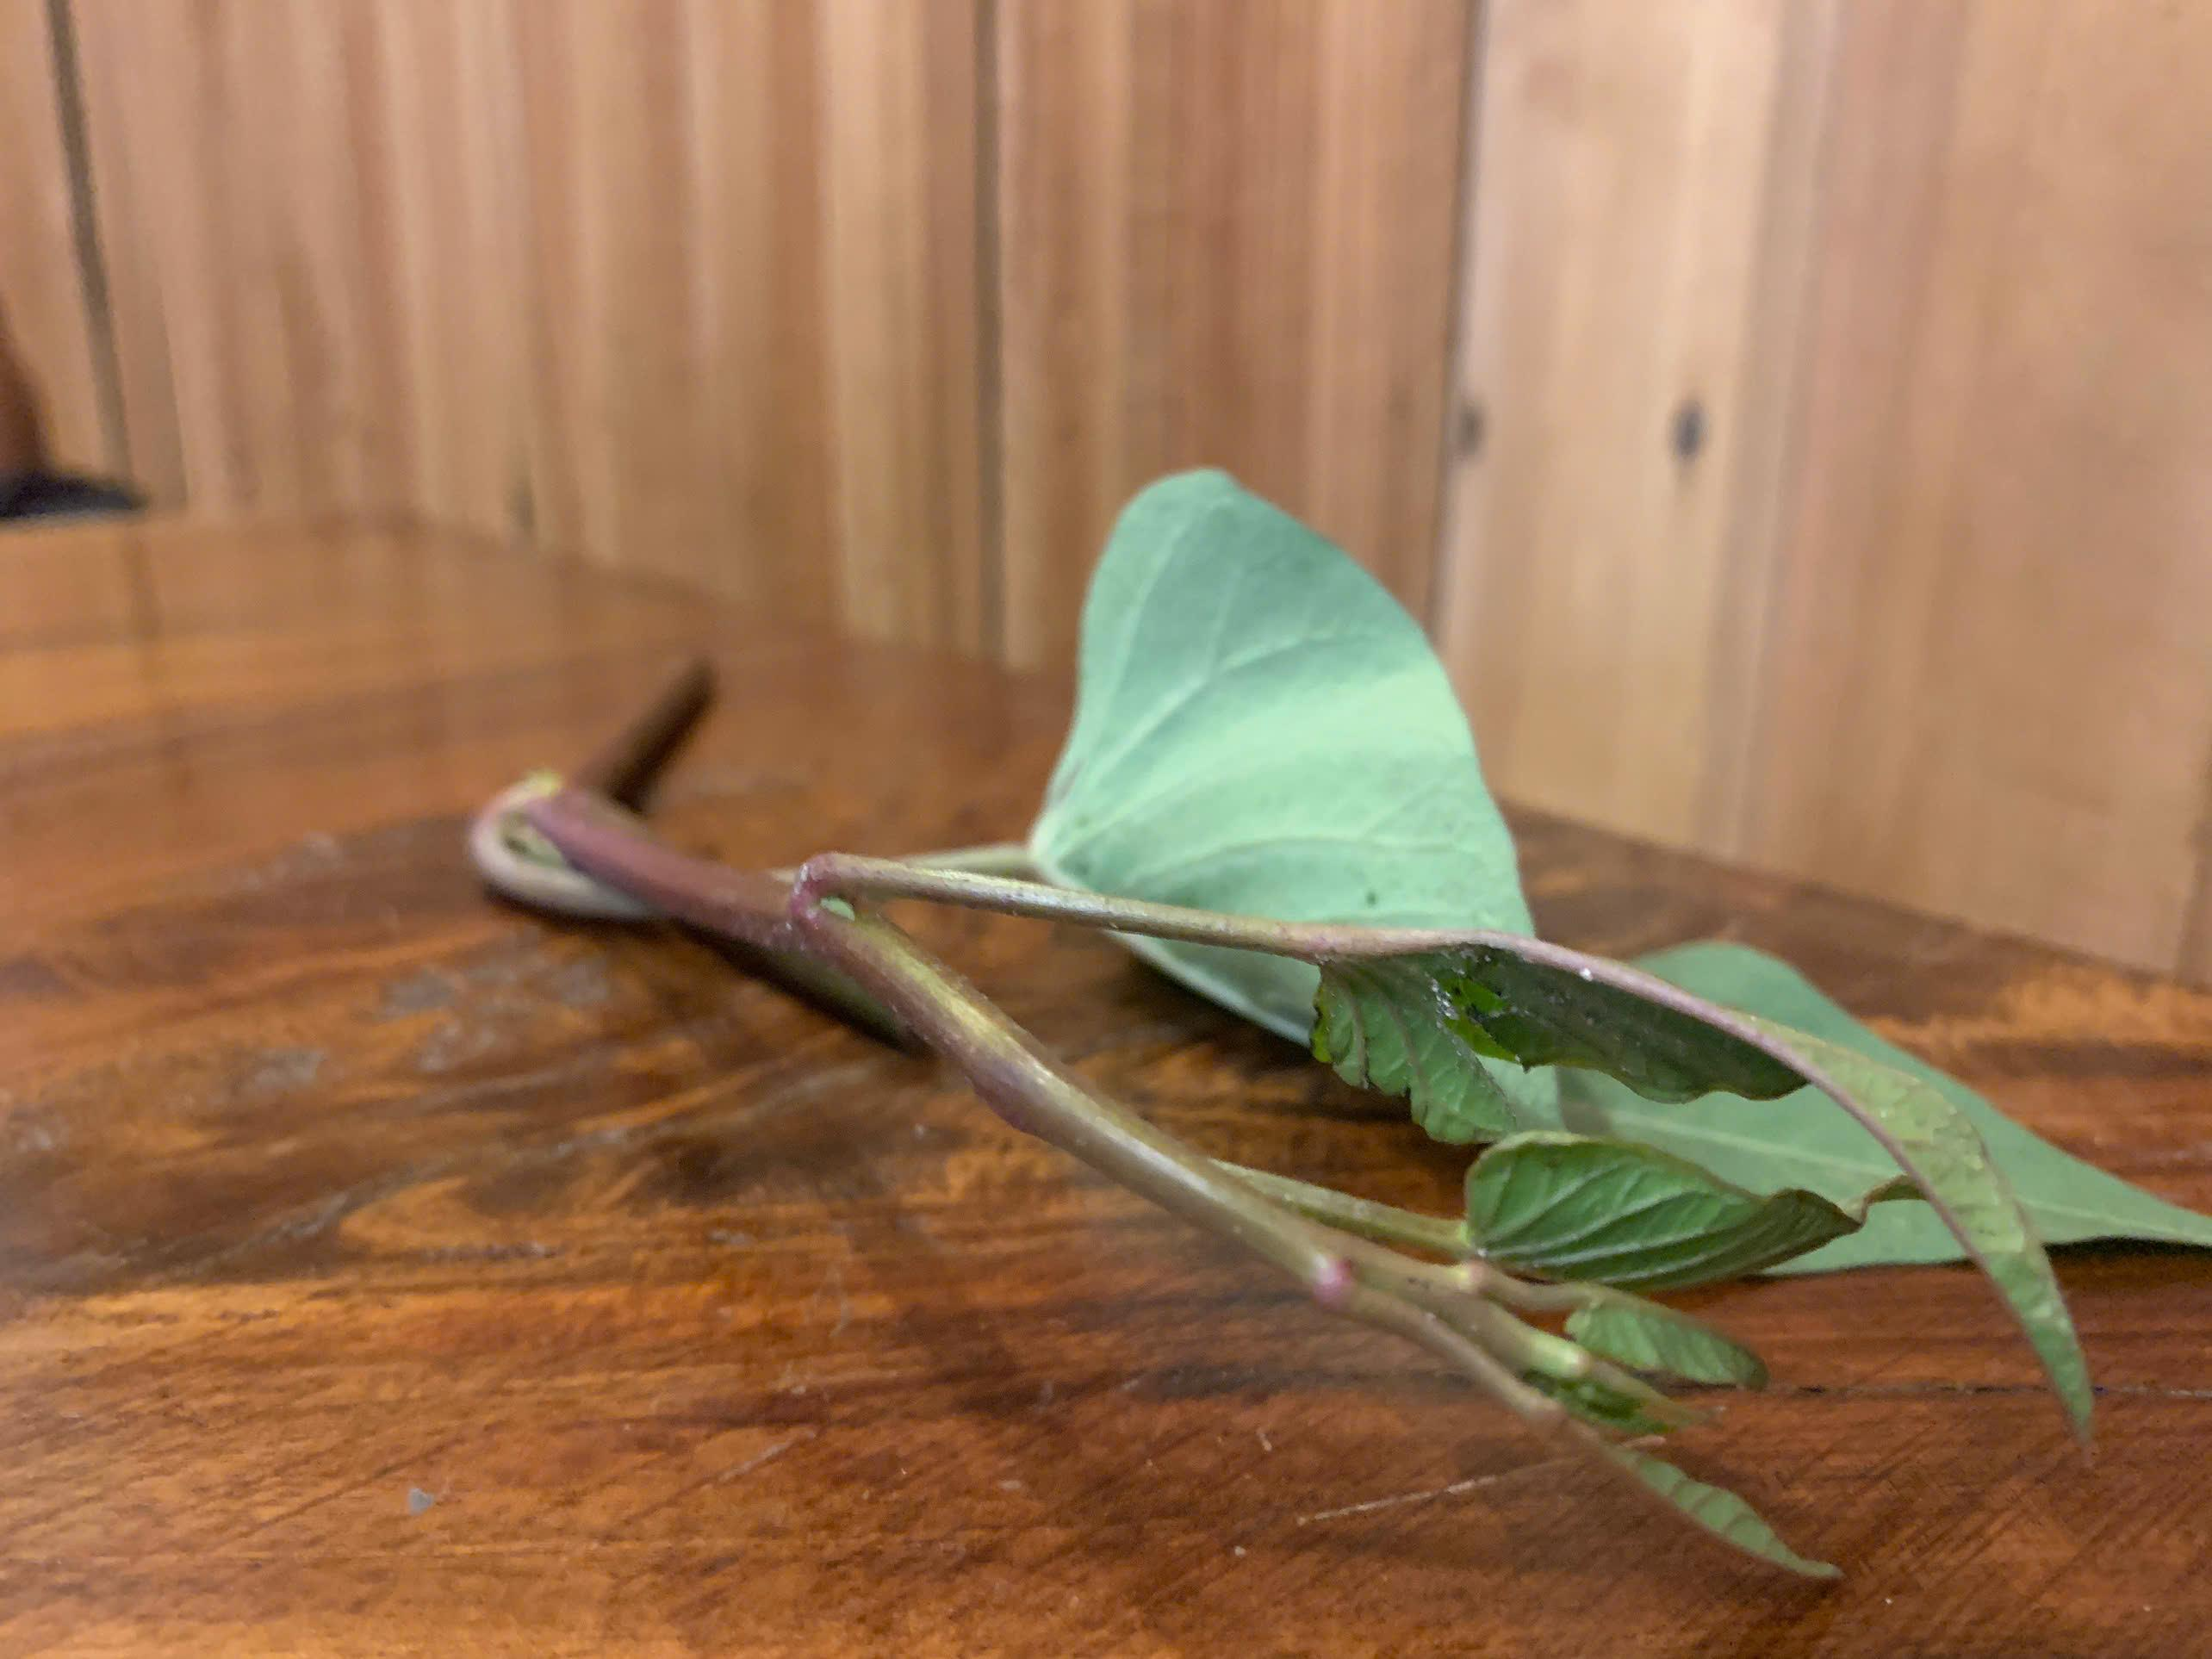Huu co: (601, 457, 2186, 1551)
